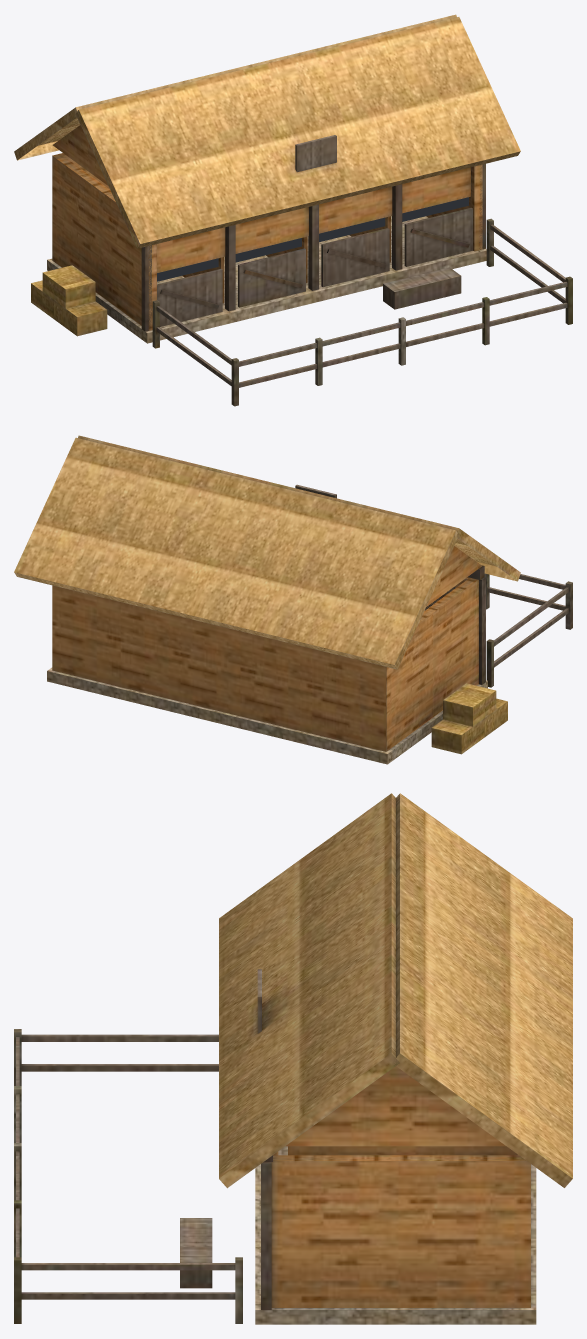
The model's file is stable.glb.
3 renders of one model, top to bottom at view 1: azimuth 30°, elevation 25°; view 2: azimuth 150°, elevation 25°; view 3: azimuth 270°, elevation 25°, orthographic. The views are drawn at different scales.
Parts seen in each view (by area): view 1: stable; view 2: stable; view 3: stable.
Boxes of the visible parts, <box> form: stable: <box>14,14,572,406</box>; stable: <box>14,435,572,764</box>; stable: <box>14,793,572,1324</box>.
Size of the model in its own units: 12.15 by 5.82 by 10.35.
Materials: 2 (1 with a texture image).
